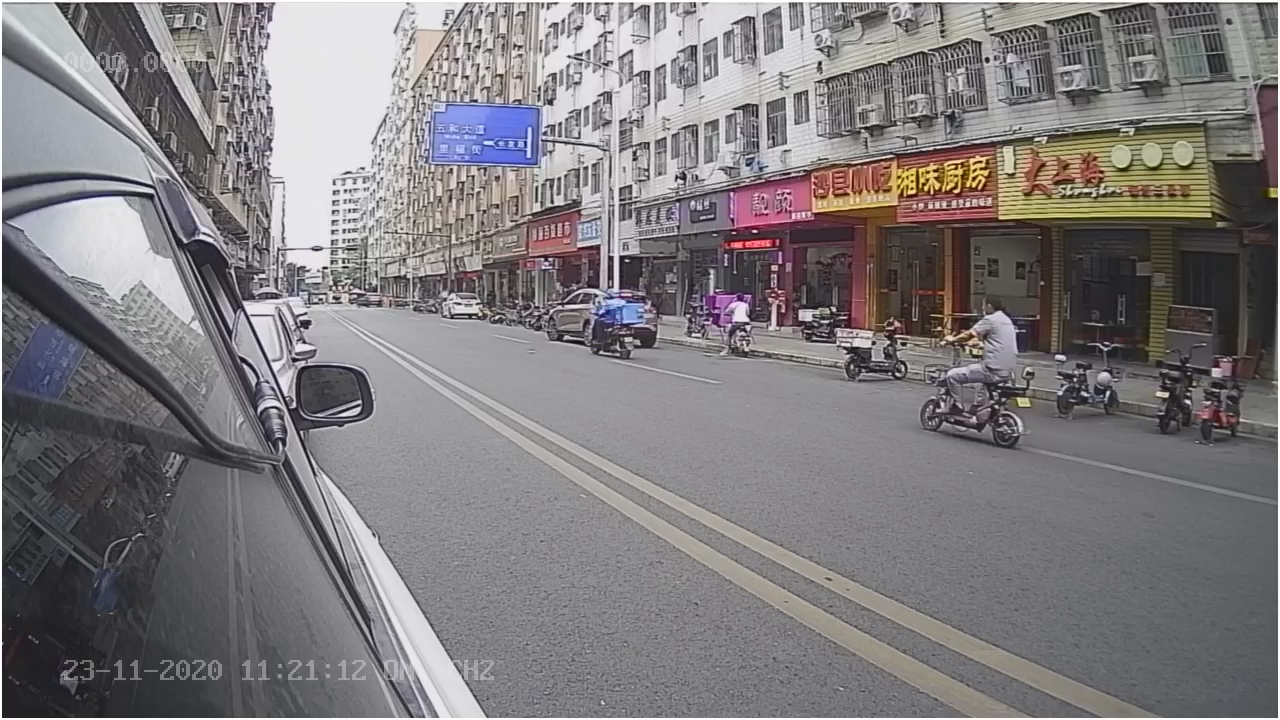person: (967, 292, 1022, 380)
